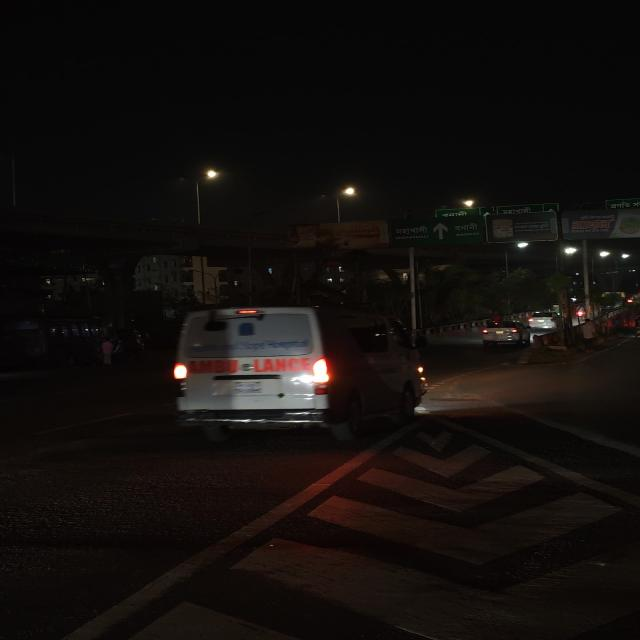car: (168, 301, 431, 444), (481, 318, 527, 352), (529, 309, 564, 330)
motorcycle: (574, 303, 588, 324)
